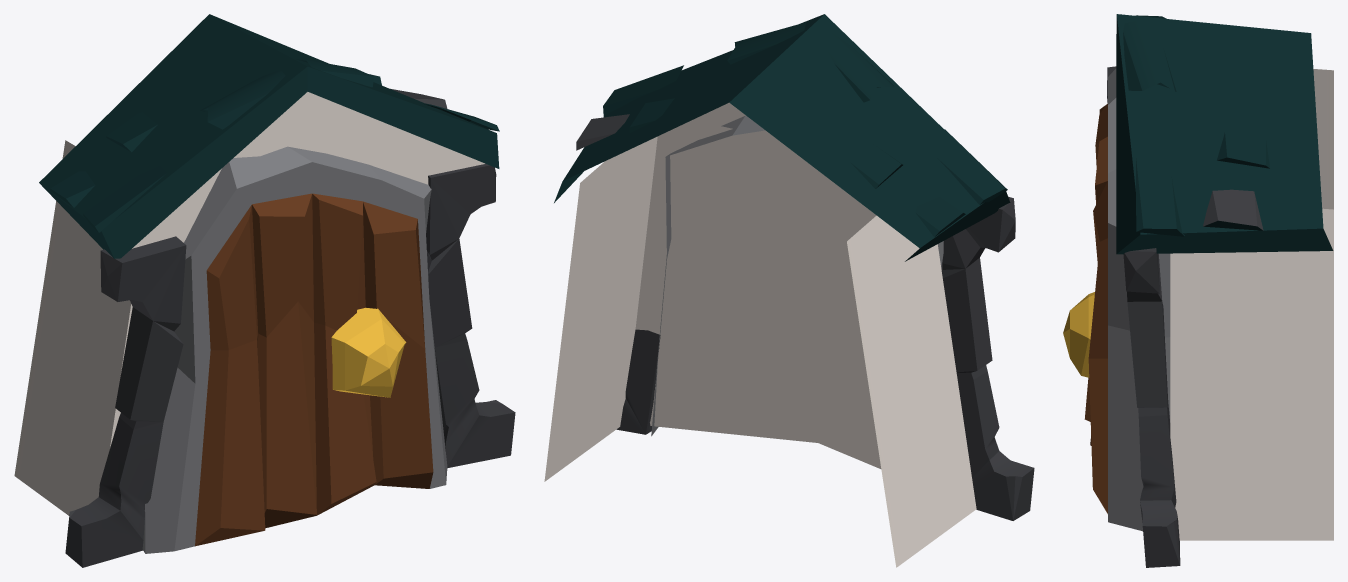
File: SM_L_Modular_doorPOPUP_1.fbx
The picture shows the model from 3 angles, left to right: view 1: azimuth 30°, elevation 25°; view 2: azimuth 150°, elevation 25°; view 3: azimuth 270°, elevation 25°; orthographic projection. The views are drawn at different scales.
Visible parts, largest first — view 1: SM_Tile_door; view 2: SM_Tile_door; view 3: SM_Tile_door.
Part boxes in pixels (x1,y1,x2,y2): SM_Tile_door: (14,14,515,567); SM_Tile_door: (544,14,1034,567); SM_Tile_door: (1063,14,1333,567).
Size of the model in its own units: 152 by 149 by 81.4.
